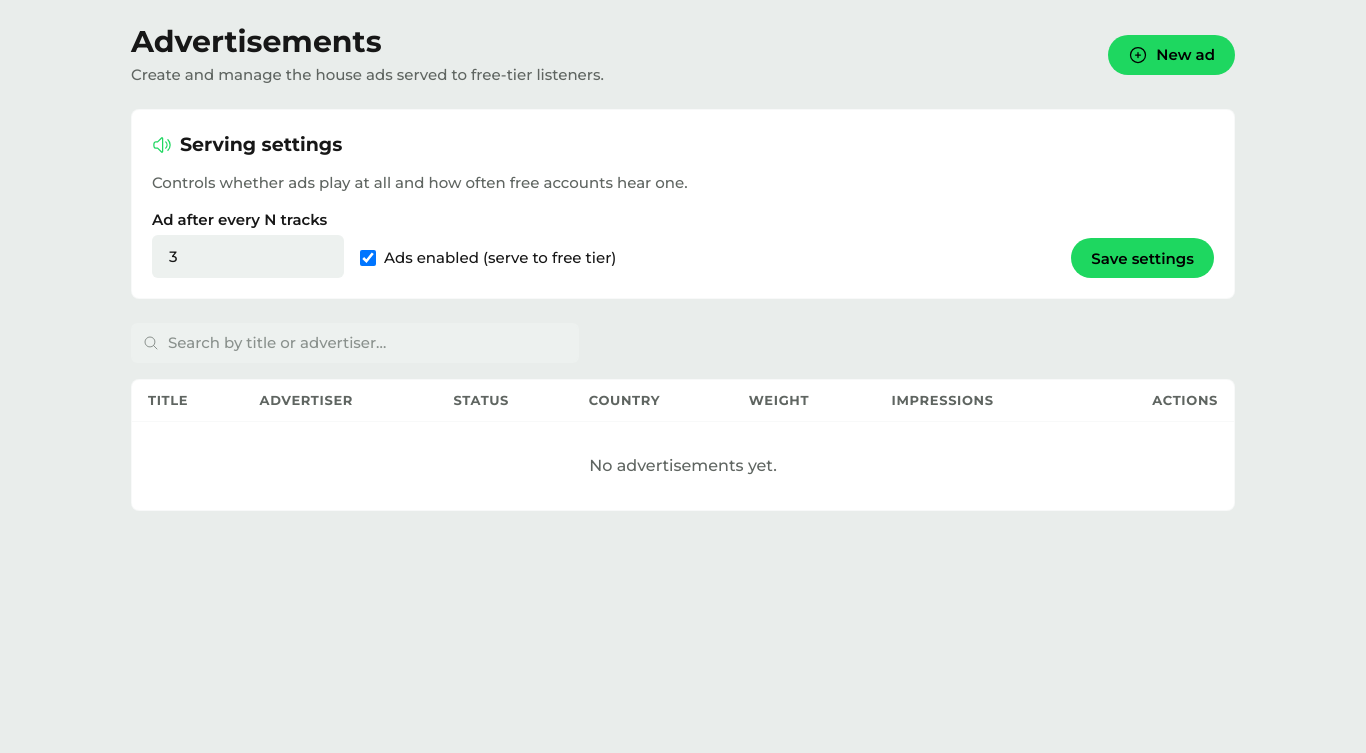
Test case: AdminAdsPage › blocks submit and shows an error when required fields are missing
Expected: the text "No advertisements yet." is shown, [132,422,1234,510]
Click the button "New ad".
click(1172, 55)  # box [1108,35,1235,75]
(page scrolled)
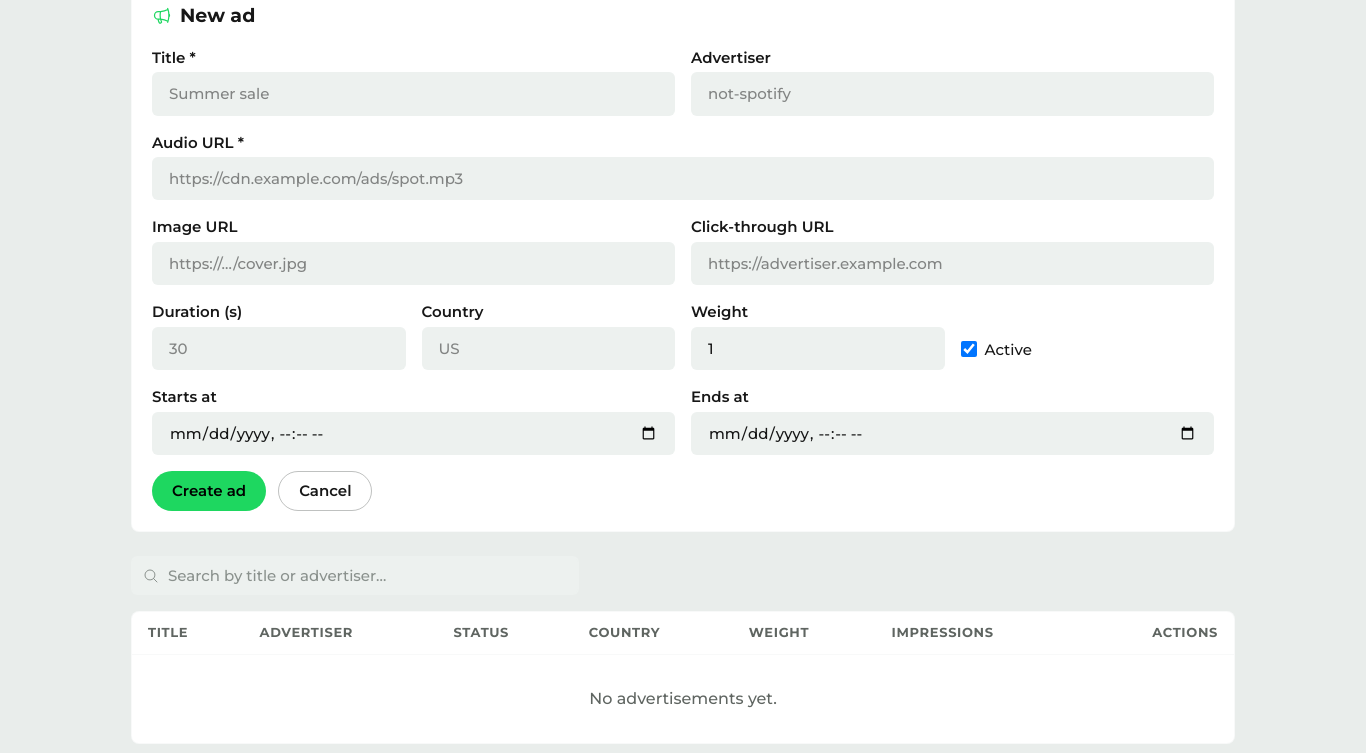
Click the button "Create ad".
click(209, 491)  # box [152,471,266,511]
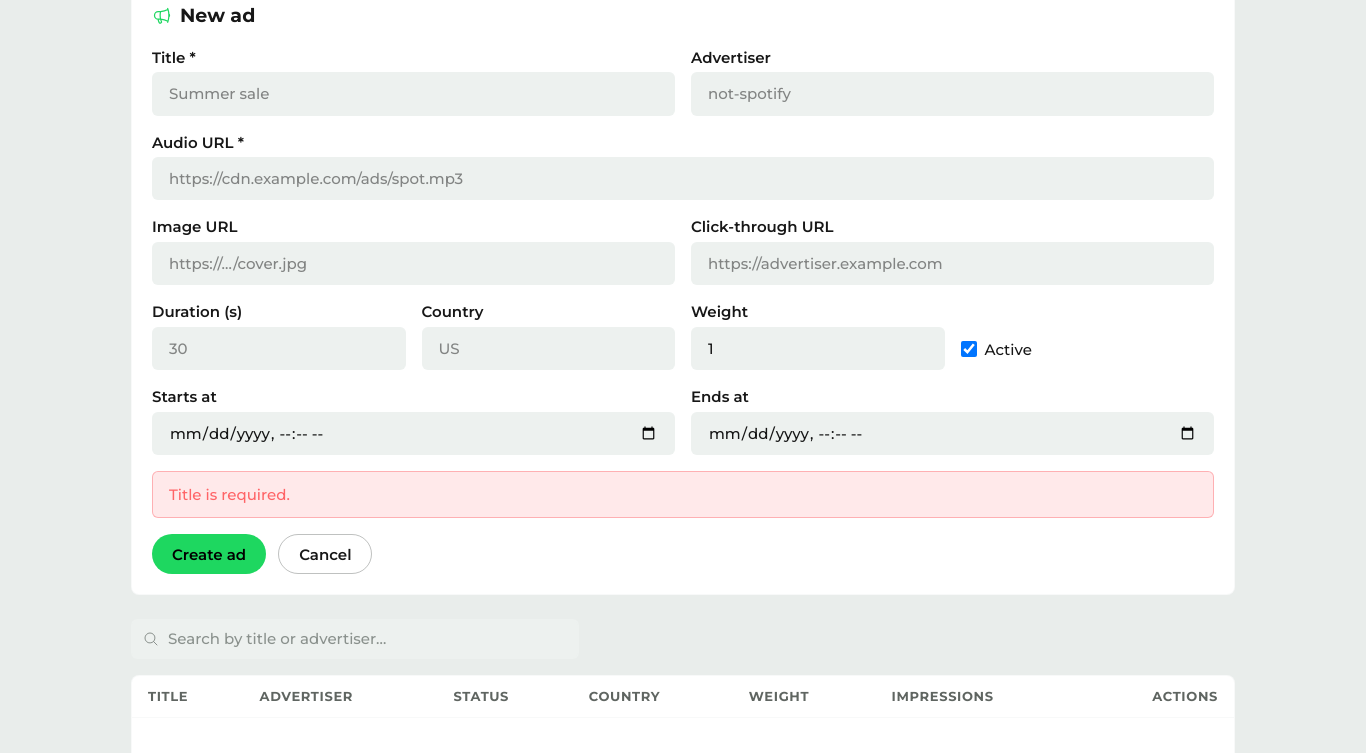
Expected: the text "Title is required." is shown, [169,485,290,504]
